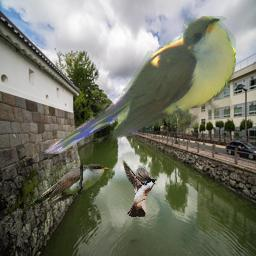Cuckoo: (42, 16, 236, 154), (22, 162, 109, 207)
Swallow: (121, 158, 157, 217)
